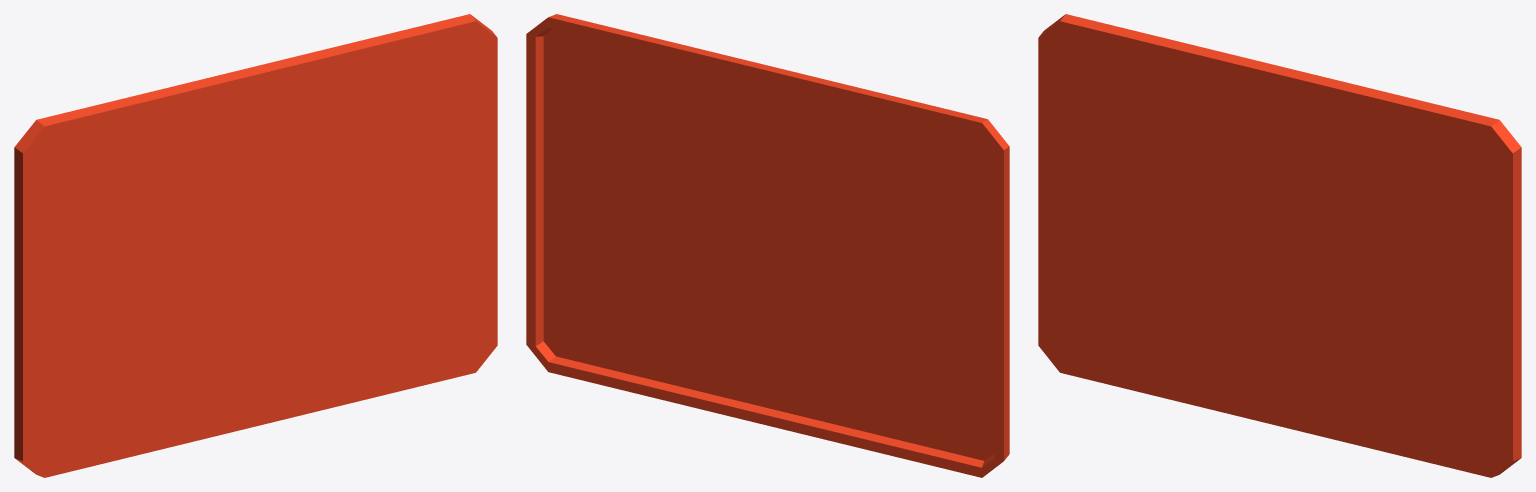
The model's file is SM_Sign_Wrong_Way_A_City.fbx.
3 views of the same model, side by side, from view 1: azimuth 30°, elevation 25°; view 2: azimuth 150°, elevation 25°; view 3: azimuth 330°, elevation 25° (orthographic).
Parts seen in each view (by area): view 1: SM_Sign_Wrong_Way_A_City; view 2: SM_Sign_Wrong_Way_A_City; view 3: SM_Sign_Wrong_Way_A_City.
Boxes of the visible parts, <box> form: SM_Sign_Wrong_Way_A_City: <box>14,14,497,477</box>; SM_Sign_Wrong_Way_A_City: <box>526,14,1009,477</box>; SM_Sign_Wrong_Way_A_City: <box>1038,14,1521,477</box>.
Bounding box in the file's own units: 0.8275 × 0.5876 × 0.0215.
